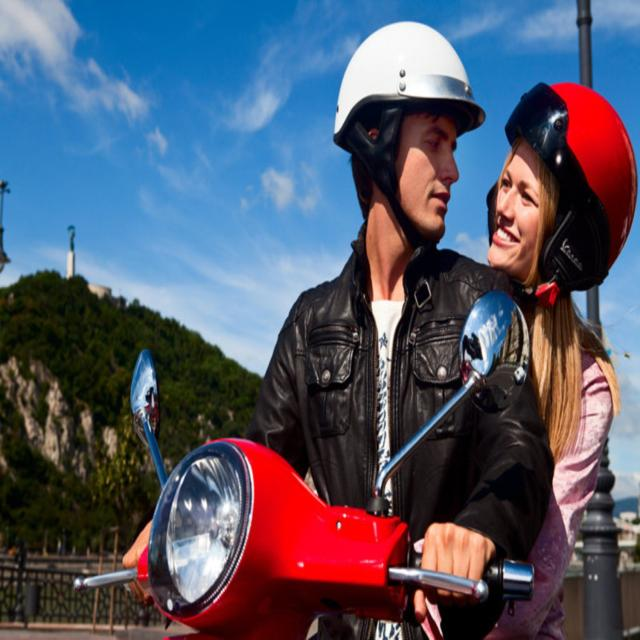helmet: (328, 16, 490, 260), (487, 72, 640, 314)
